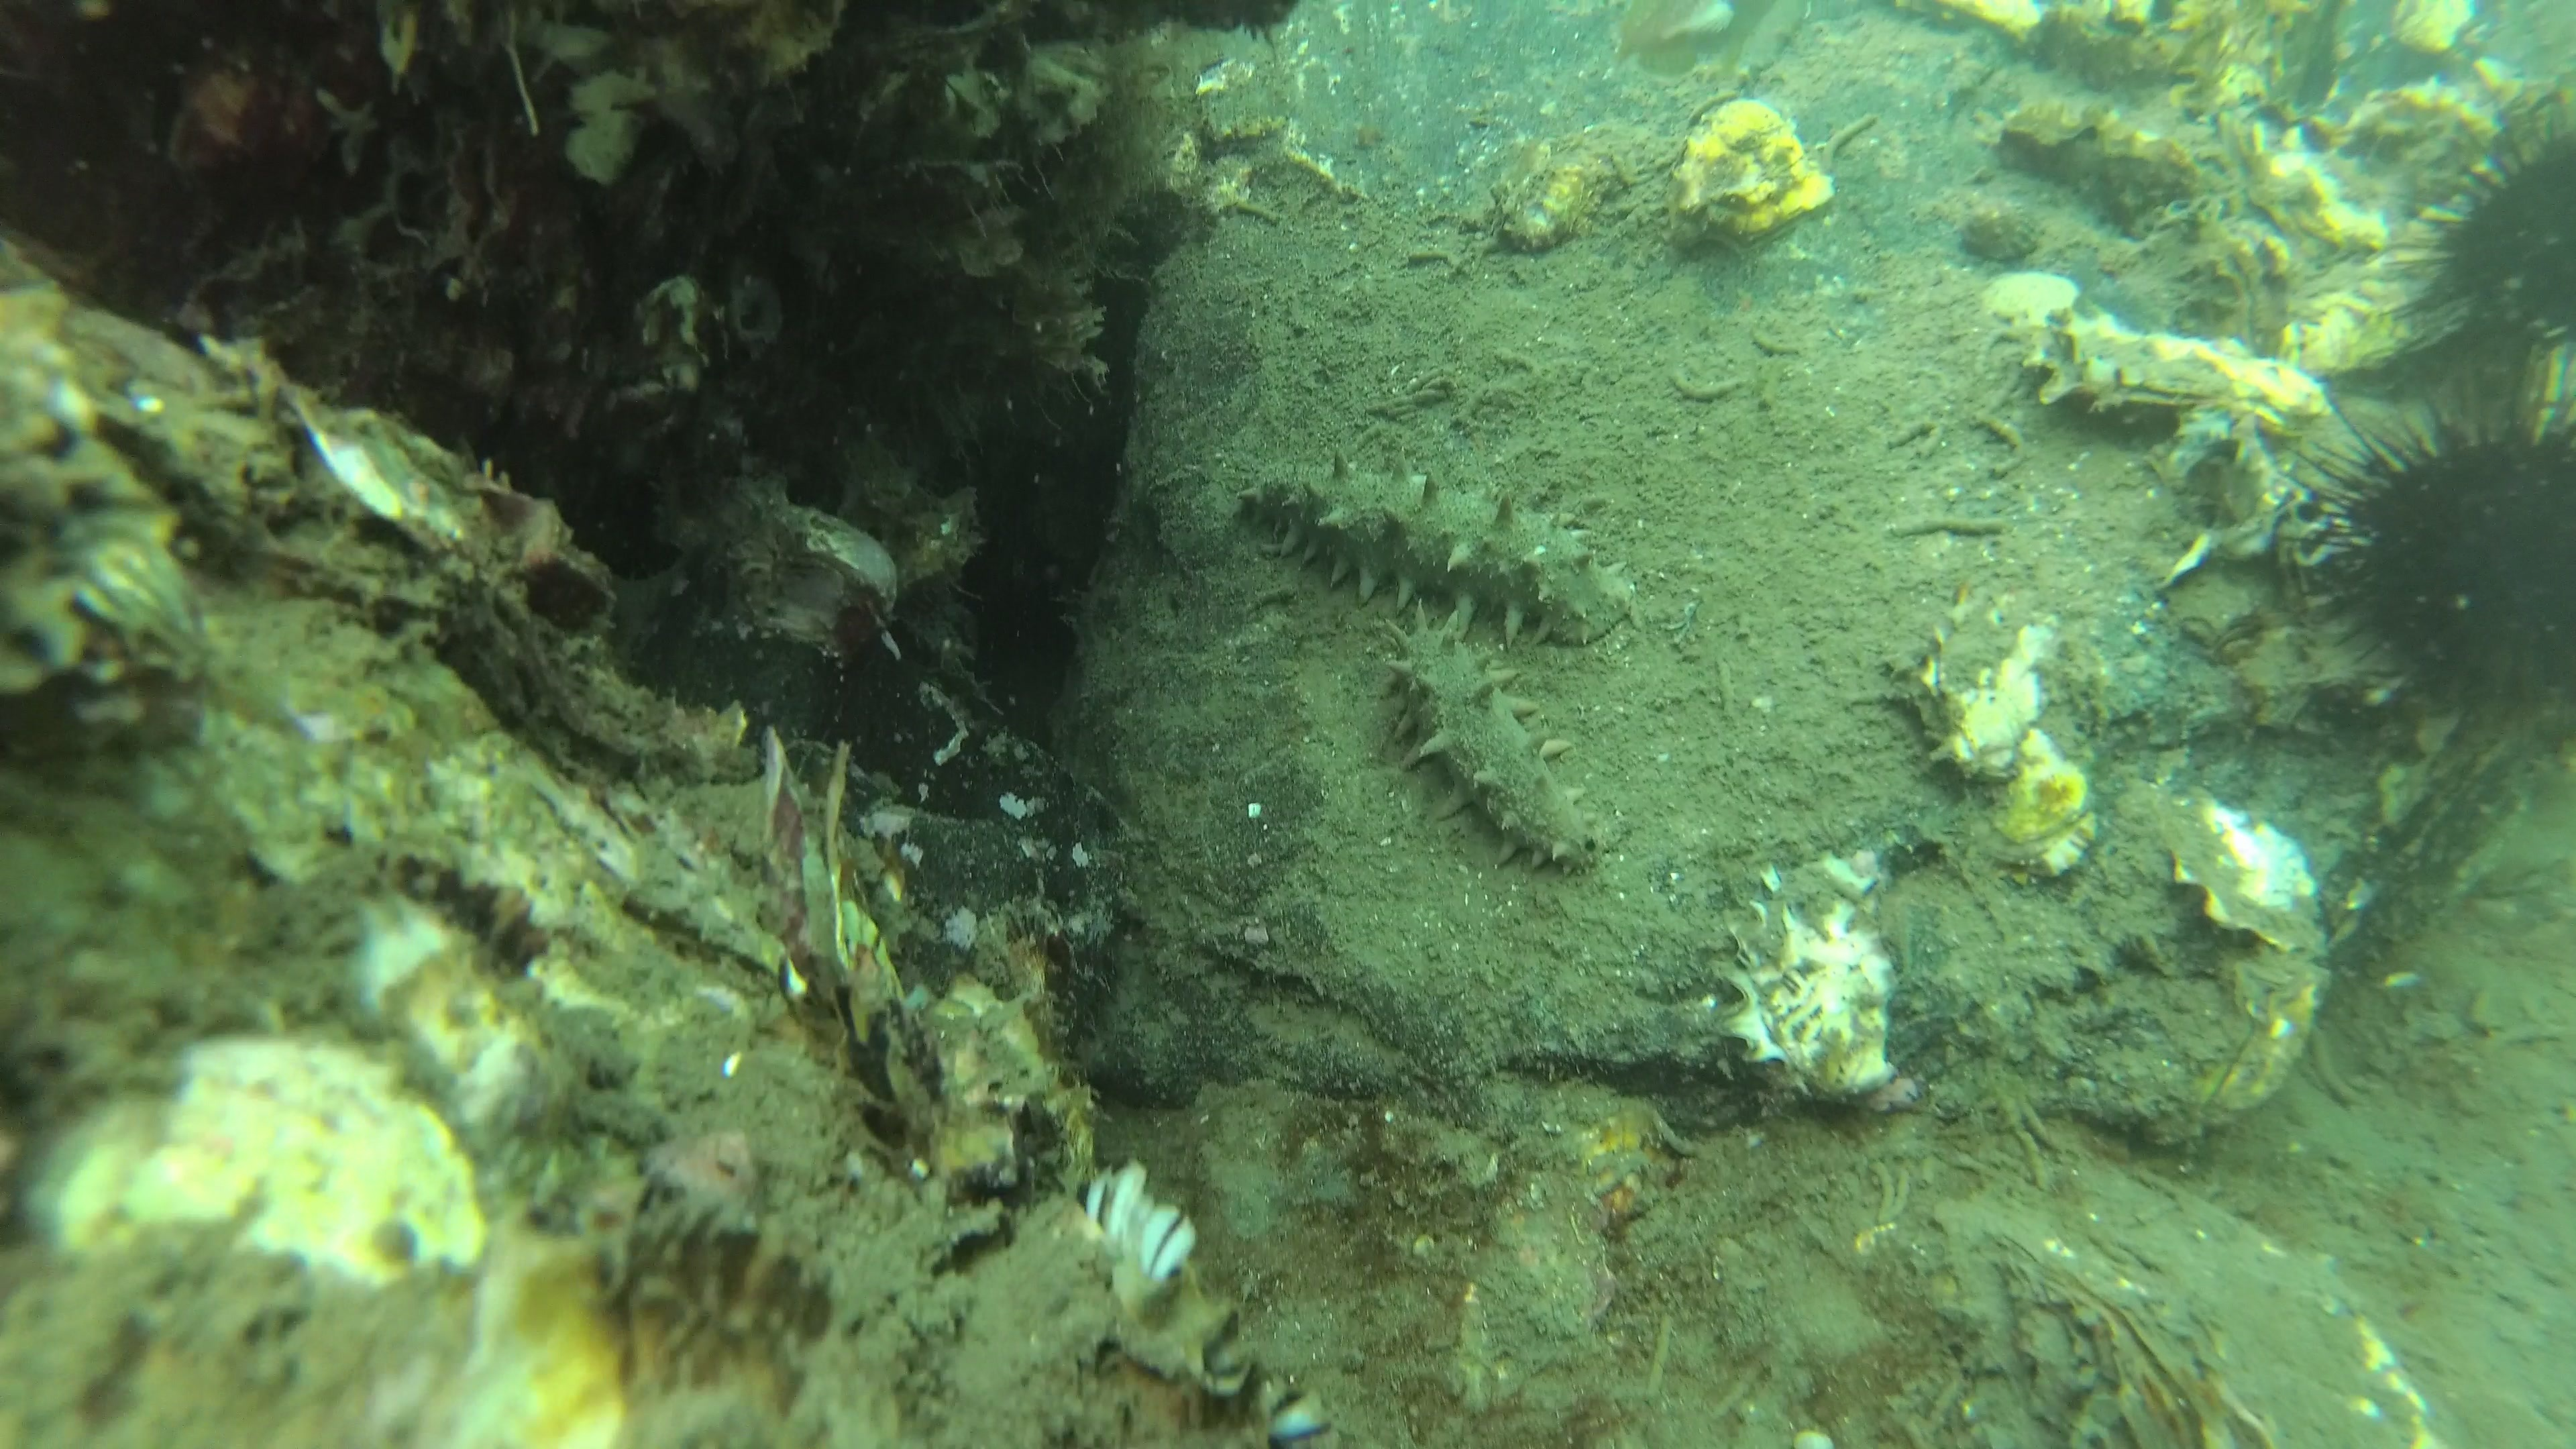echinus: (2293, 391, 2576, 747), (2408, 101, 2576, 364)
holothurian: (1235, 441, 1635, 649), (1385, 594, 1605, 879)
